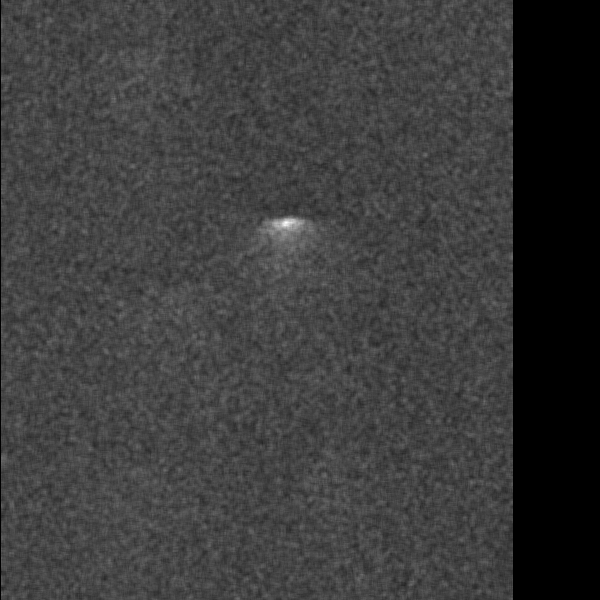spark: (142, 541, 181, 576)
